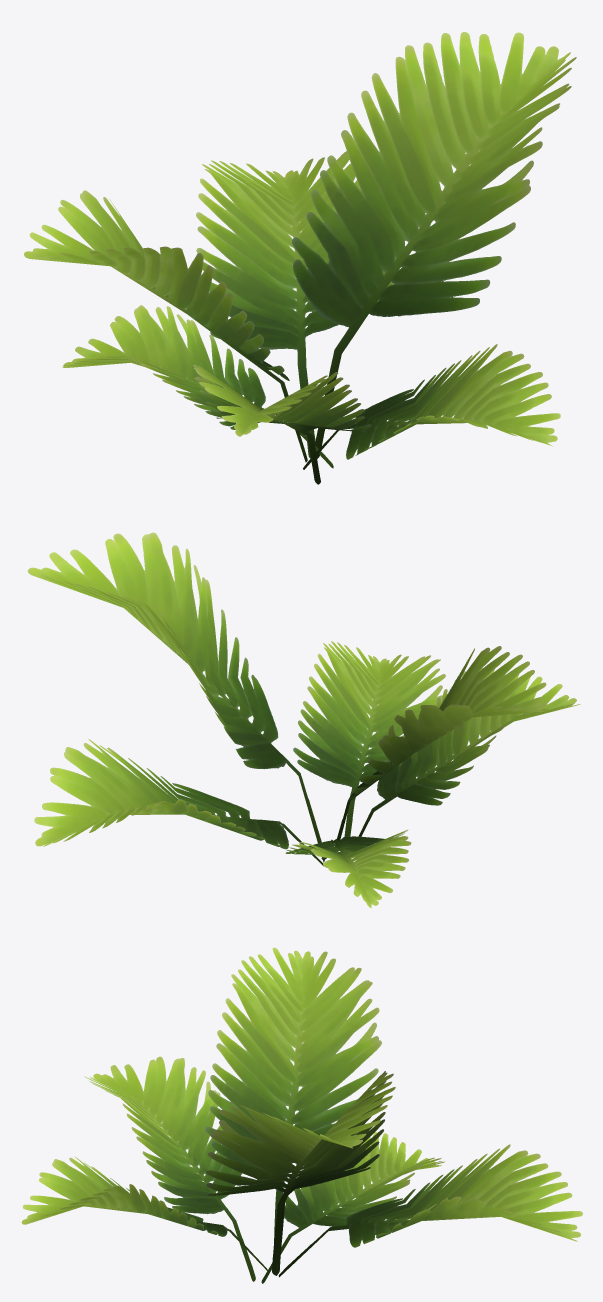
Rendered from SM_Vegetation_04.fbx.
3 views of the same model, one above another, from view 1: azimuth 30°, elevation 25°; view 2: azimuth 150°, elevation 25°; view 3: azimuth 270°, elevation 25° (orthographic). The views are drawn at different scales.
Visible parts, largest first — view 1: SM_Vegetation_04_LOD0; view 2: SM_Vegetation_04_LOD0; view 3: SM_Vegetation_04_LOD0.
Part boxes in pixels (x1,y1,x2,y2): SM_Vegetation_04_LOD0: [24, 32, 576, 484]; SM_Vegetation_04_LOD0: [27, 532, 580, 907]; SM_Vegetation_04_LOD0: [21, 947, 582, 1283].
Size of what is drawn, in the model's own units: 2.1 by 1.17 by 2.12.
